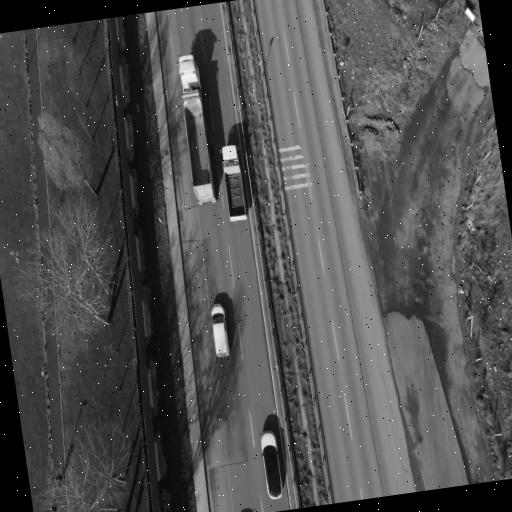UAI: (178, 55, 214, 204), (221, 145, 246, 221)
person: (261, 431, 281, 499), (210, 304, 228, 357)
